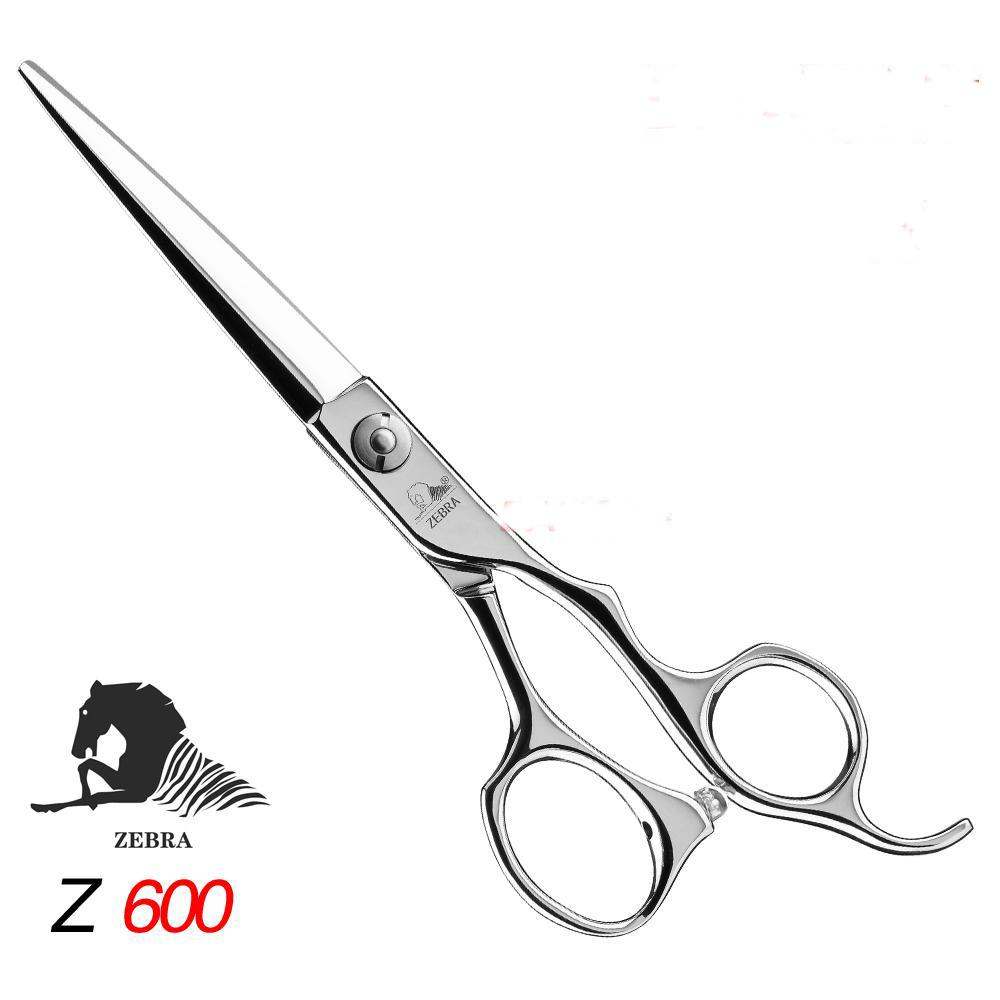scissor: (40, 68, 974, 950)
